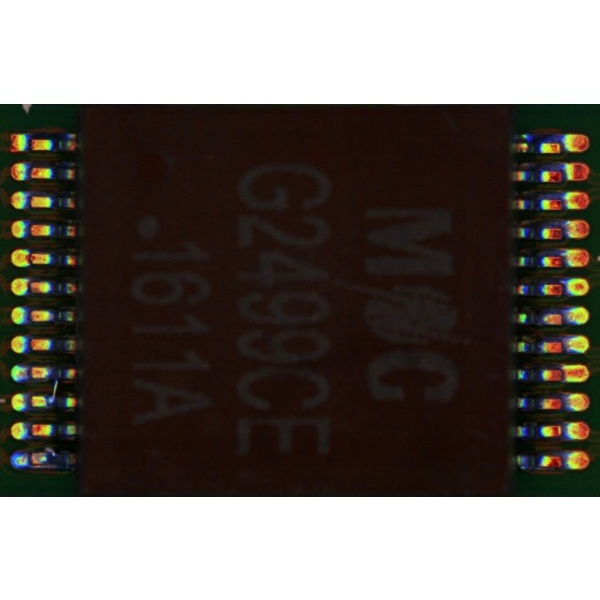Bad_podu: (23, 252, 40, 263), (558, 368, 573, 380)
